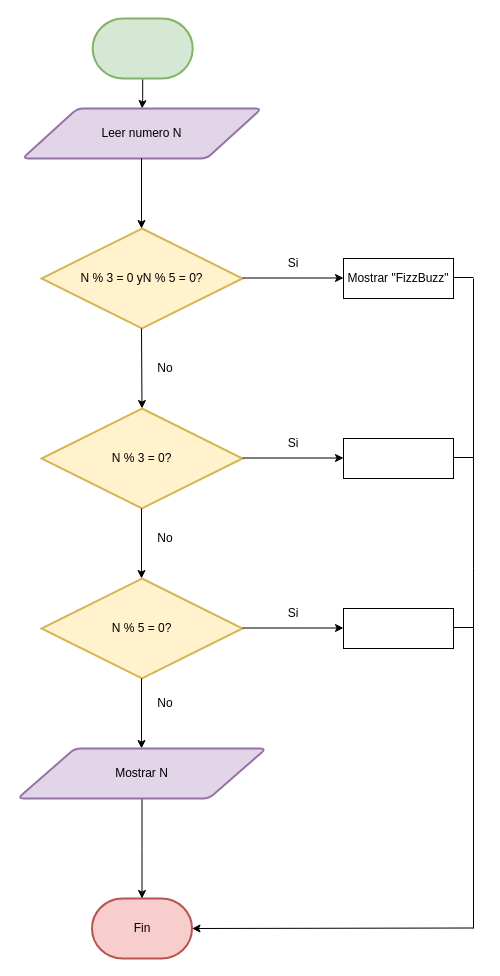
Image size: 500x976. Some labels were removed from this diagram. The shapes that lost their labels are listed below. From the top down, each one's centre as x and y in pixels, then its label:
the point at 142,48: Inicio
the point at 398,458: Mostrar "Fizz"
the point at 398,628: Mostrar "Buzz"
